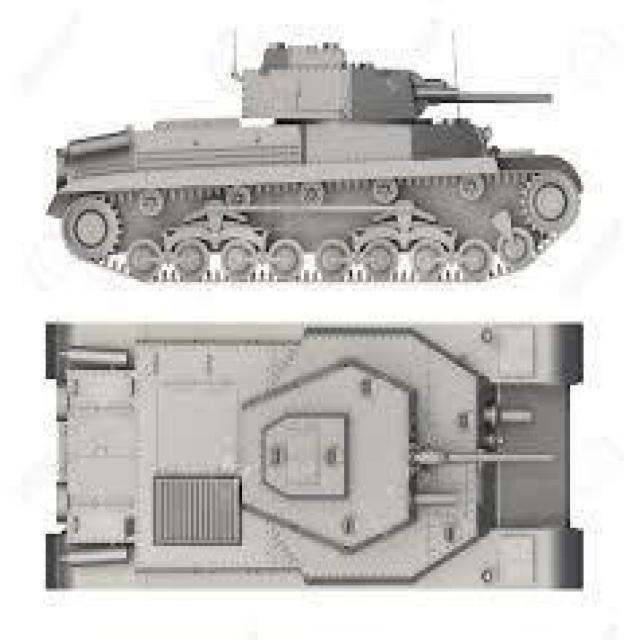MIL_MBT: (42, 300, 588, 595), (47, 33, 585, 291)
